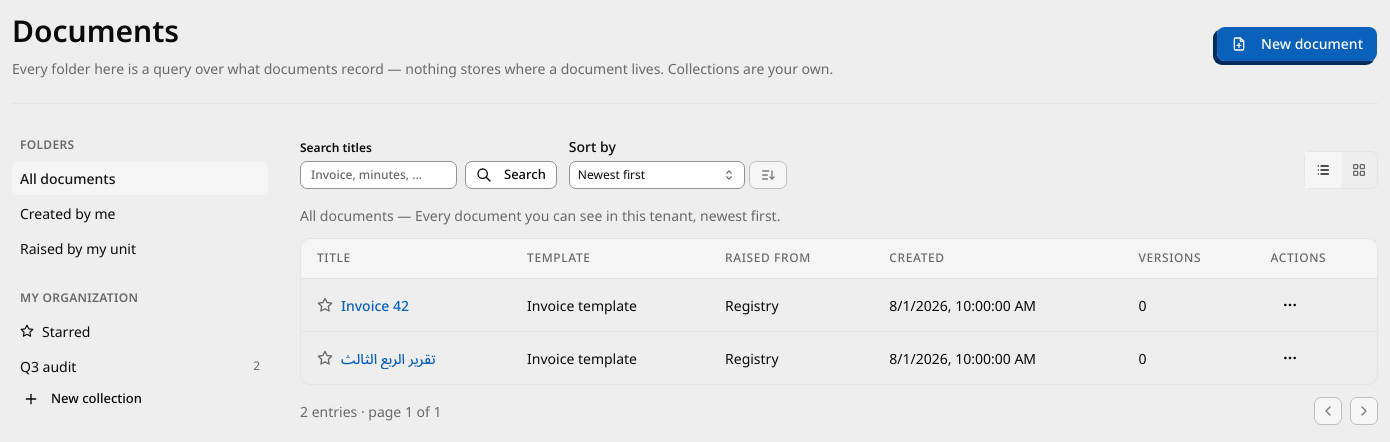
controls the caller cannot use › offers rename and delete on the built-in starred folder, disabled, saying why
Expected: the link "Invoice 42" is shown, [341,294,409,316]
Click the button "Starred" at (140, 331), box [12,314,268,348]
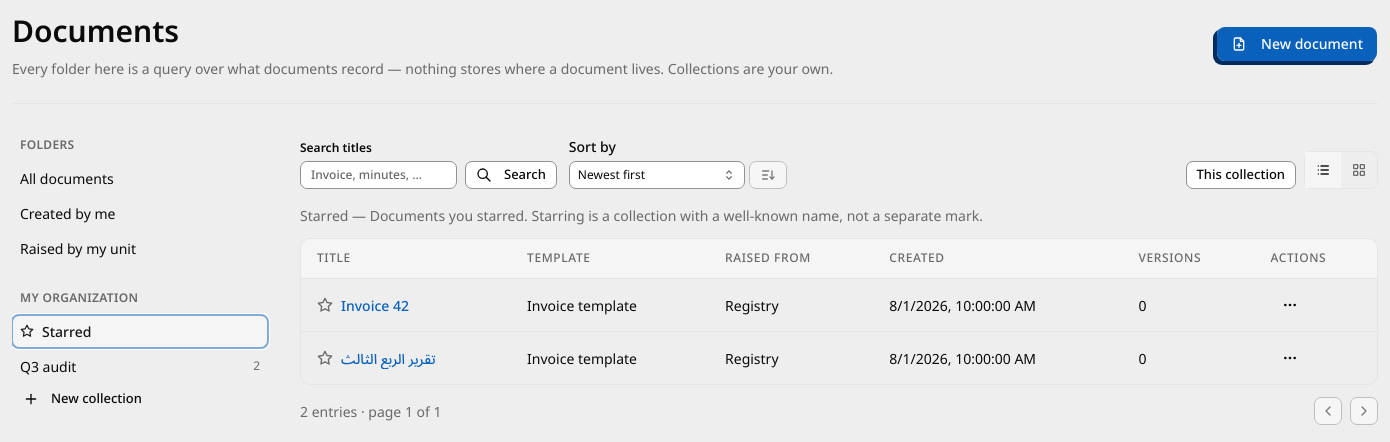
Click the button "This collection" at (1241, 174), box [1186,160,1296,188]
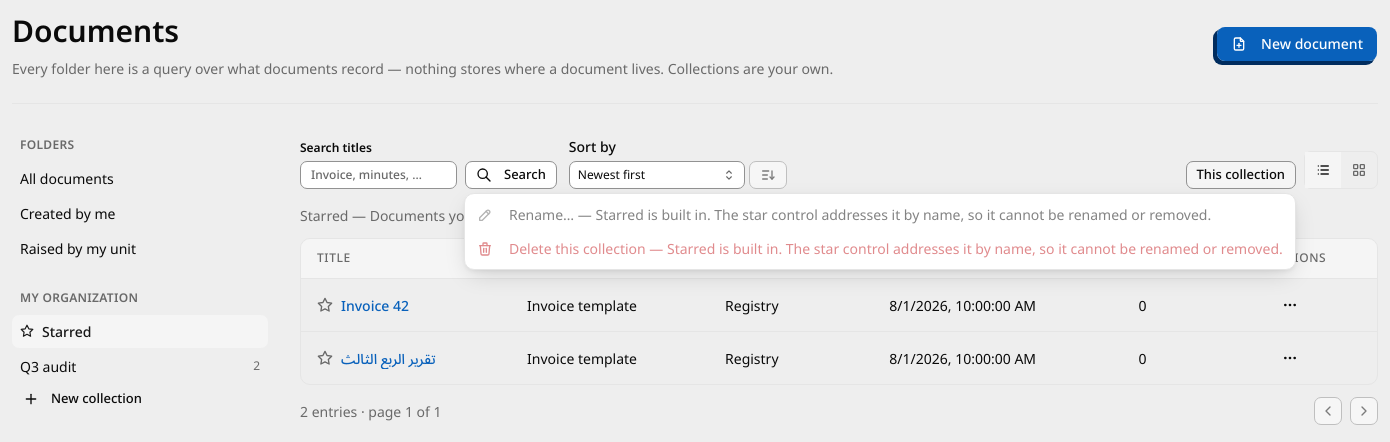
Now the menu item "Rename" shows "built in", box [477,205,1211,224]
